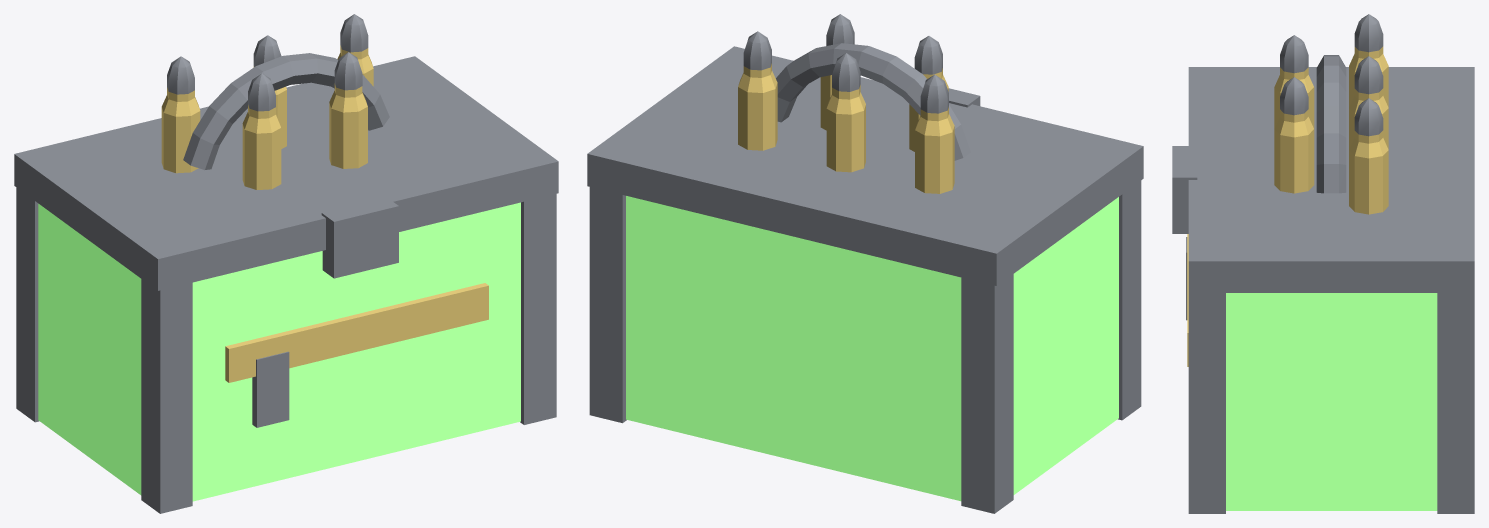
The model's file is pickups-and-collectibles-ammo-box-c255da61__19896.glb.
3 renders of one model, left to right at view 1: azimuth 30°, elevation 25°; view 2: azimuth 150°, elevation 25°; view 3: azimuth 270°, elevation 25°, orthographic. The views are drawn at different scales.
Parts seen in each view (by area): view 1: body/iron, body/verdant, body/gold; view 2: body/iron, body/verdant, body/gold; view 3: body/iron, body/verdant, body/gold.
Part boxes in pixels (bbox=[...]): body/iron: bbox=[14, 14, 558, 513]; body/verdant: bbox=[38, 202, 520, 501]; body/gold: bbox=[161, 45, 488, 382]; body/iron: bbox=[587, 14, 1143, 513]; body/verdant: bbox=[626, 196, 1118, 501]; body/gold: bbox=[738, 63, 954, 193]; body/iron: bbox=[1172, 14, 1474, 513]; body/verdant: bbox=[1226, 293, 1437, 510]; body/gold: bbox=[1187, 46, 1388, 366].
Bounding box in the file's own units: 0.37 × 0.3212 × 0.243.
